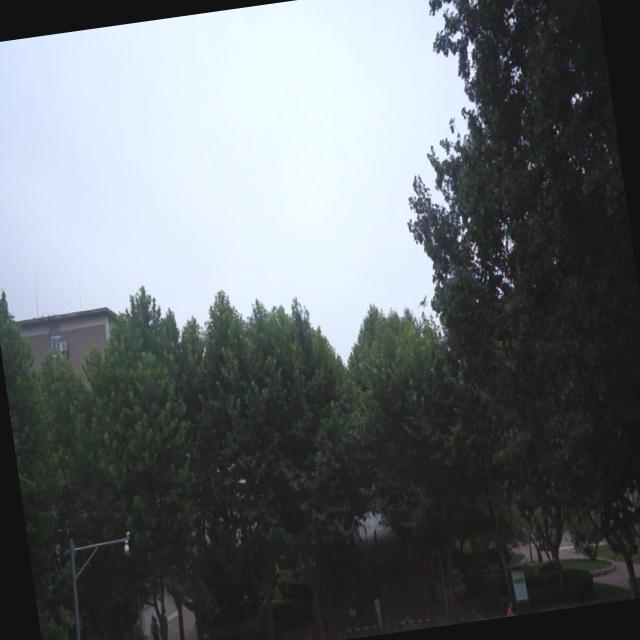drone: (415, 288, 432, 312)
